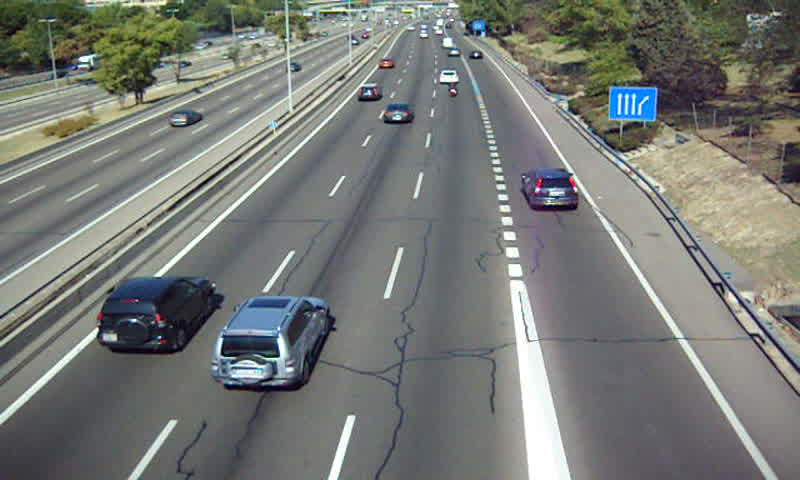car: (211, 298, 331, 389), (96, 275, 214, 349), (520, 168, 582, 211), (382, 103, 415, 126), (358, 84, 384, 104), (438, 69, 460, 84), (378, 58, 397, 69)
motorcycle: (445, 81, 459, 98)
